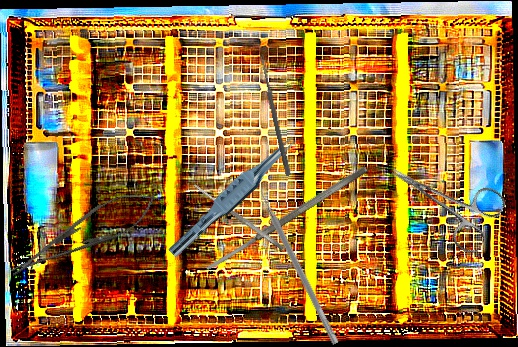Iris Scissors: (376, 139, 510, 258)
Needle Holder: (2, 178, 165, 290)
Spatula Surgical: (202, 164, 370, 274), (251, 179, 347, 346), (192, 182, 286, 252)
Surgical Spoon: (258, 53, 292, 177)
Tissue Forceps: (167, 128, 300, 265)
